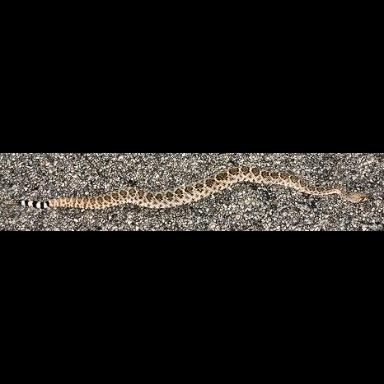panda: (17, 165, 368, 210)
